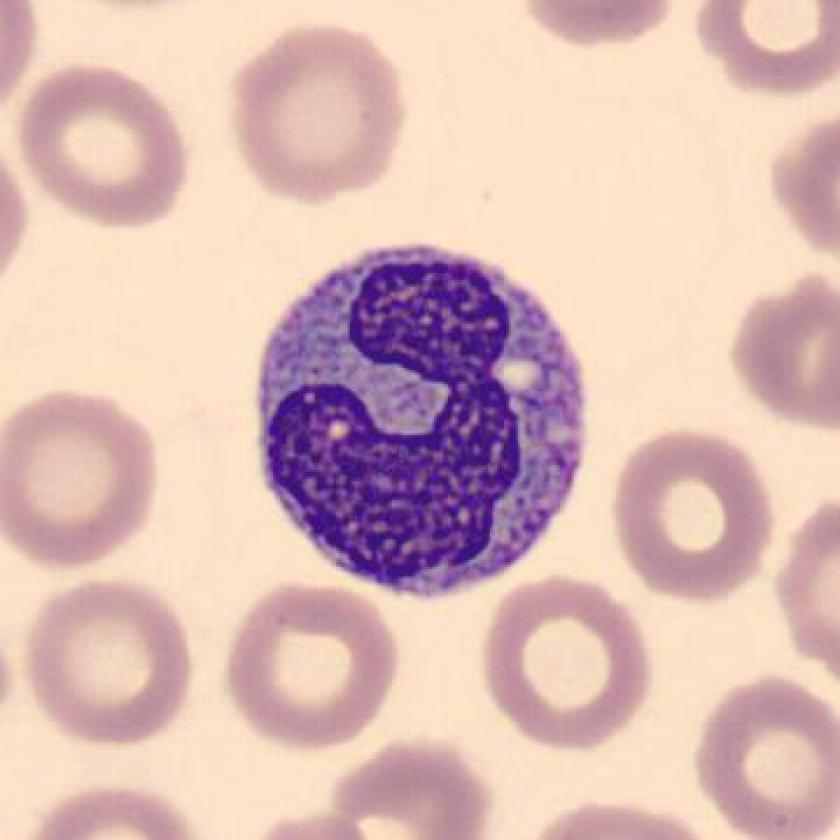monocyte: (230, 226, 608, 617)
